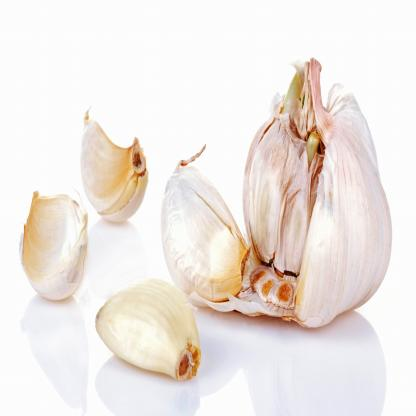--: (237, 44, 398, 356), (162, 147, 262, 335), (86, 269, 212, 389), (70, 102, 156, 235), (11, 181, 89, 322)
